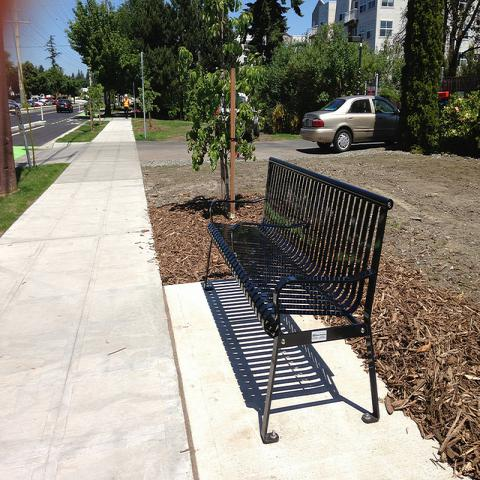car: (301, 95, 400, 153), (216, 93, 260, 143), (55, 99, 73, 113), (29, 96, 47, 106), (9, 100, 23, 110), (129, 99, 140, 108)
